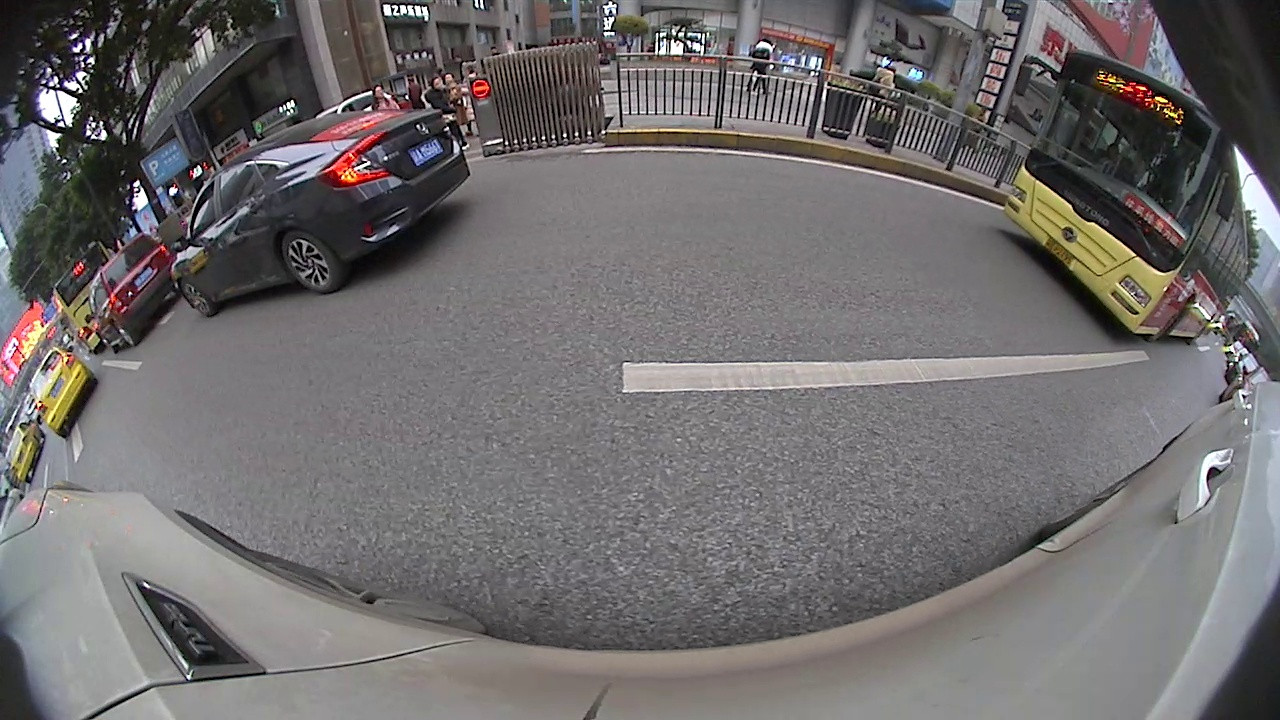bus: (1003, 48, 1251, 343), (52, 237, 113, 350)
car: (171, 107, 471, 318), (83, 232, 178, 353), (29, 346, 98, 440), (310, 88, 403, 121), (2, 420, 45, 486), (1217, 367, 1268, 406), (1223, 352, 1259, 387)
front: (180, 283, 222, 318)
person: (448, 72, 467, 133), (755, 34, 770, 97), (876, 62, 893, 113), (430, 73, 448, 114)
rear: (280, 231, 344, 293)
